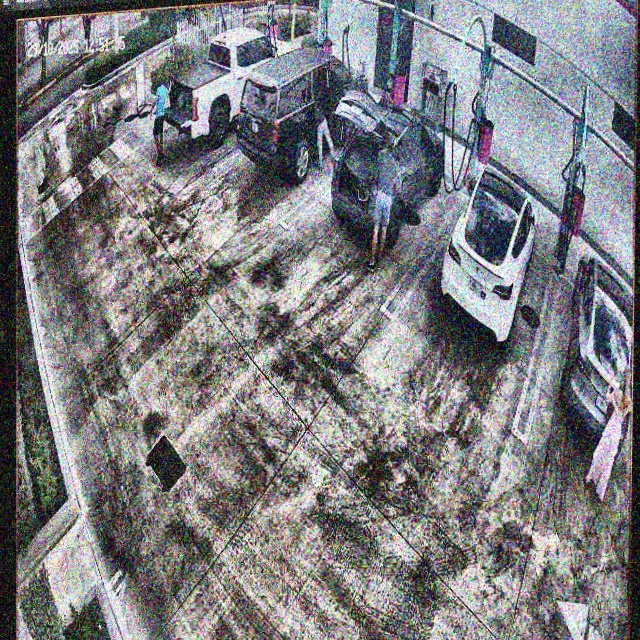Car: (332, 78, 446, 244), (239, 45, 367, 187), (441, 164, 540, 346)
